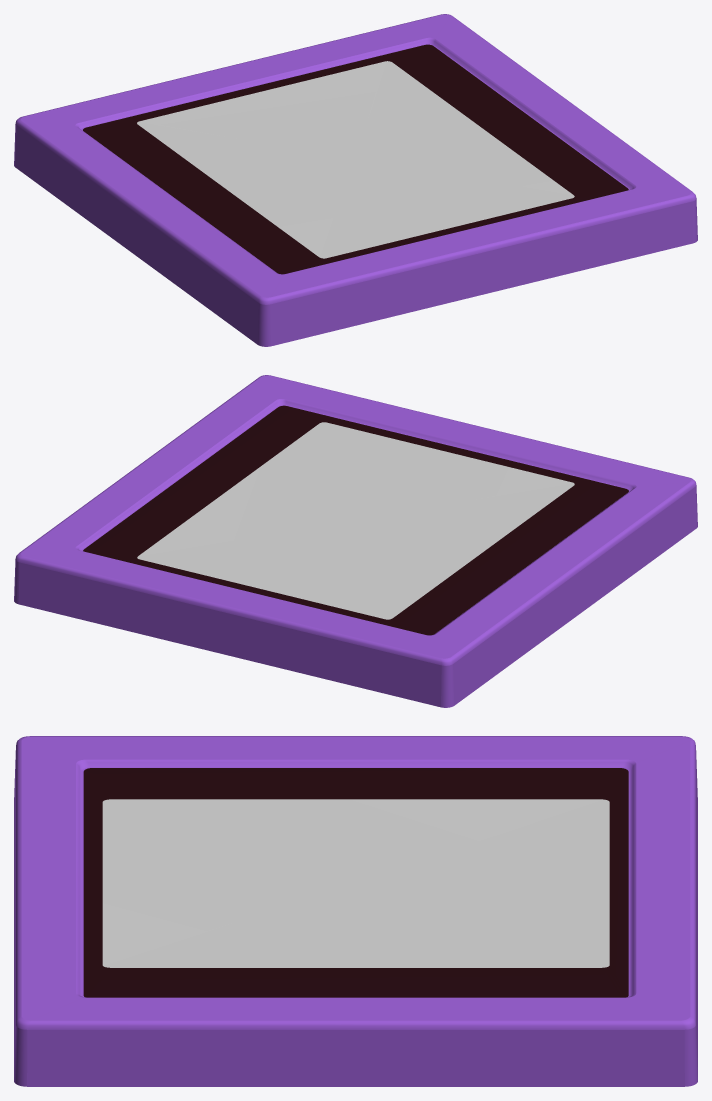
Rendered from Swich3.fbx.
3 renders of one model, top to bottom at view 1: azimuth 30°, elevation 25°; view 2: azimuth 150°, elevation 25°; view 3: azimuth 270°, elevation 25°, orthographic. The views are drawn at different scales.
Visible parts, largest first — view 1: SE_System_M_MTN5250_4146_005.001; view 2: SE_System_M_MTN5250_4146_005.001; view 3: SE_System_M_MTN5250_4146_005.001.
Part boxes in pixels (<box>): SE_System_M_MTN5250_4146_005.001: <box>14,14,697,346</box>; SE_System_M_MTN5250_4146_005.001: <box>14,375,697,707</box>; SE_System_M_MTN5250_4146_005.001: <box>14,736,697,1086</box>.
Size of the model in its own units: 5664 by 579 by 5637.
